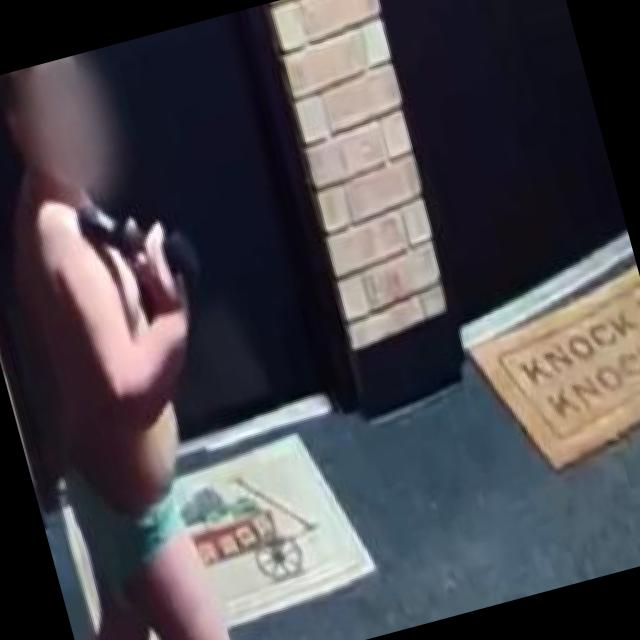Guns: (67, 183, 208, 288)
